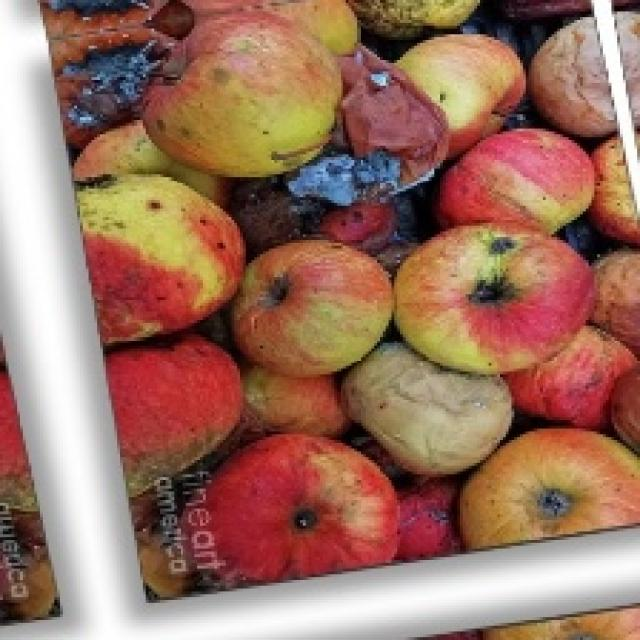rotten_apple: (74, 175, 240, 333), (472, 433, 638, 544), (356, 350, 506, 462), (531, 14, 637, 133)
